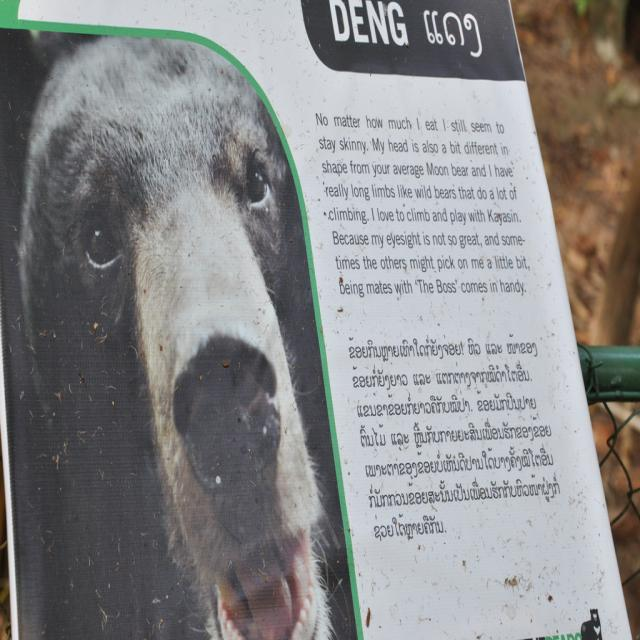Buffalo: (0, 26, 357, 640)
